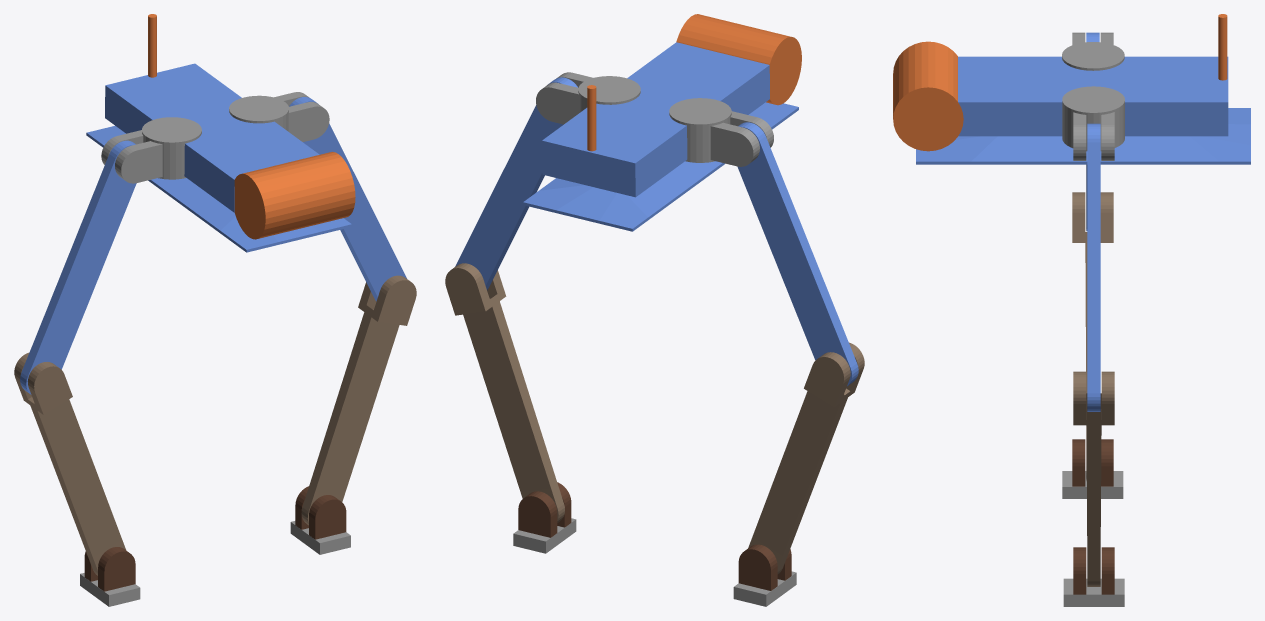
File: two-legs_v0-3.glb
3 views of the same model, side by side, from view 1: azimuth 30°, elevation 25°; view 2: azimuth 150°, elevation 25°; view 3: azimuth 270°, elevation 25° (orthographic). The views are drawn at different scales.
Parts seen in each view (by area): view 1: Chassis, LowerLegLeft2, LowerLegRight2, UpperLegRight2, ShoulderRight2, UpperLegLeft2, ShoulderLeft2, FootLeft2, FootRight2; view 2: Chassis, LowerLegLeft2, LowerLegRight2, UpperLegRight2, UpperLegLeft2, ShoulderRight2, ShoulderLeft2, FootLeft2, FootRight2; view 3: Chassis, LowerLegLeft2, UpperLegLeft2, ShoulderLeft2, FootLeft2, FootRight2, LowerLegRight2, ShoulderRight2.
Part boxes in pixels (x1,y1,x2,y2): Chassis: (86,14,355,252); LowerLegLeft2: (301,275,416,525); LowerLegRight2: (14,352,125,575); UpperLegRight2: (20,140,136,394); ShoulderRight2: (101,117,201,183); UpperLegLeft2: (289,97,406,301); ShoulderLeft2: (229,92,329,141); FootLeft2: (290,486,350,554); FootRight2: (80,547,140,606); Chassis: (523,14,801,231); LowerLegLeft2: (445,263,564,522); LowerLegRight2: (748,342,864,574); UpperLegRight2: (737,122,858,386); UpperLegLeft2: (455,77,577,290); ShoulderRight2: (669,98,773,166); ShoulderLeft2: (536,72,640,124); FootLeft2: (513,482,576,553); FootRight2: (733,544,796,606); Chassis: (893,14,1250,164); LowerLegLeft2: (1073,371,1114,586); UpperLegLeft2: (1087,123,1100,411); ShoulderLeft2: (1062,86,1124,160); FootLeft2: (1063,547,1124,606); FootRight2: (1062,439,1123,498); LowerLegRight2: (1072,192,1113,479); ShoulderRight2: (1062,32,1124,70).
Size of the model in its own units: 8.58 by 10.76 by 6.6.
